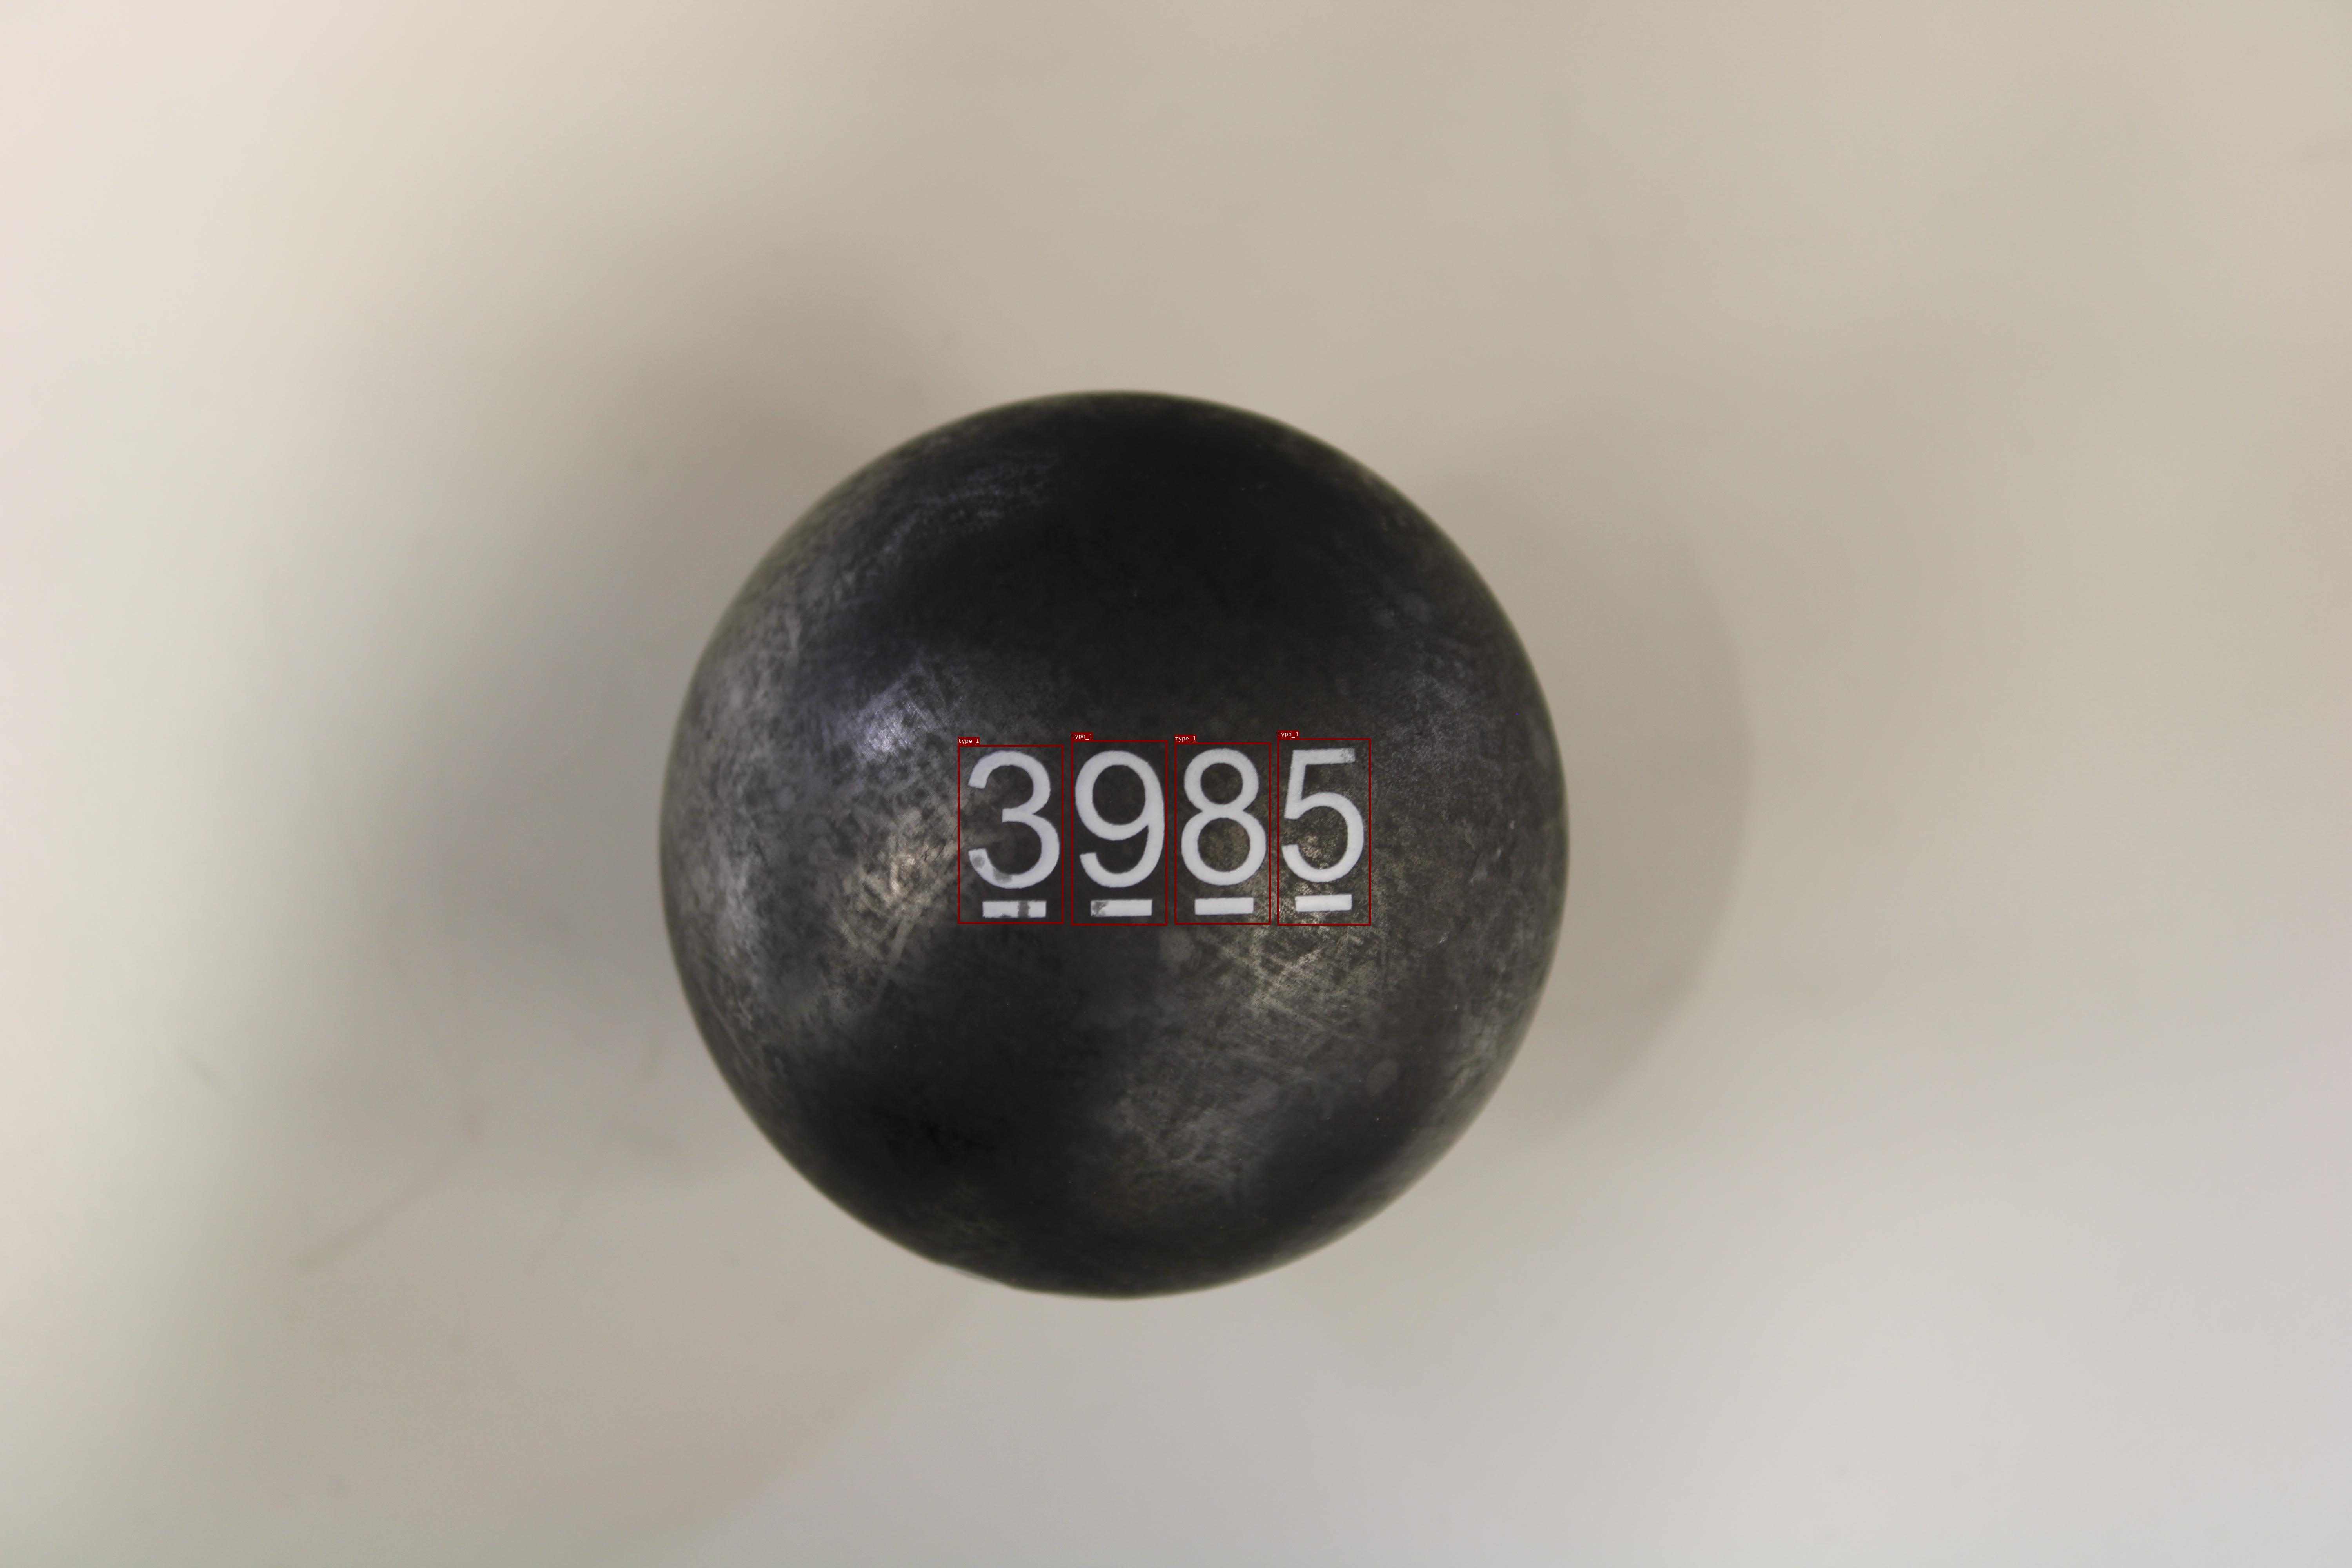type_1: (957, 746, 1062, 924), (1071, 740, 1167, 926), (1174, 742, 1270, 924), (1277, 739, 1370, 926)
